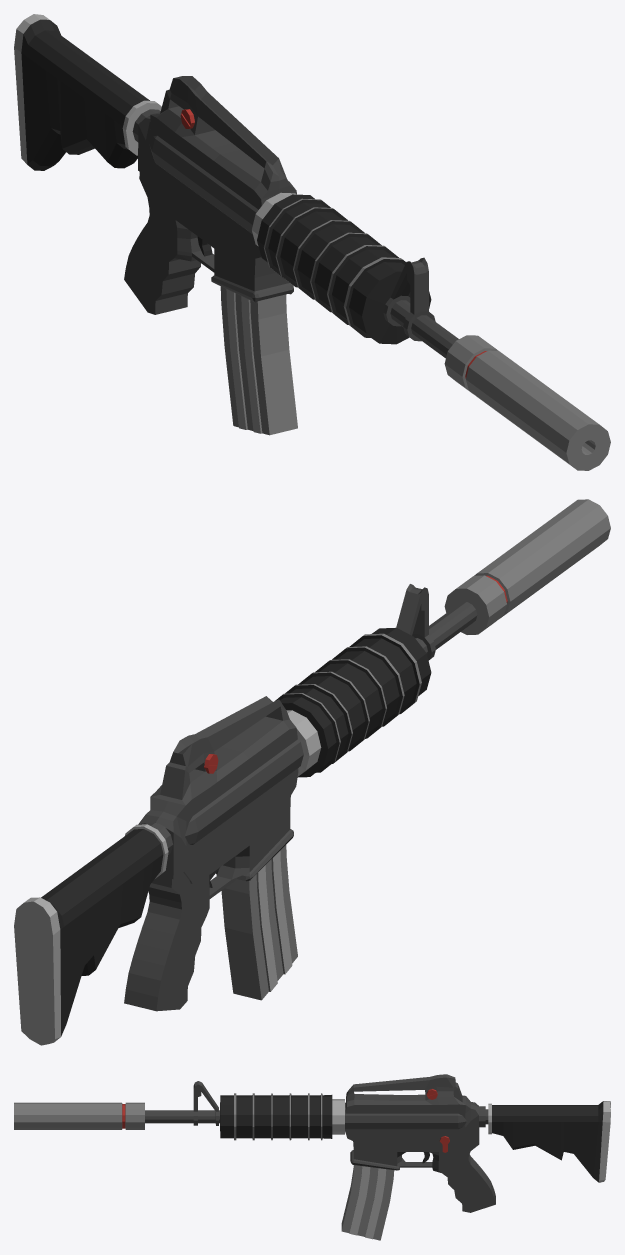
3 renders of one model, top to bottom at view 1: azimuth 30°, elevation 25°; view 2: azimuth 150°, elevation 25°; view 3: azimuth 270°, elevation 25°, orthographic. The views are drawn at different scales.
Visible parts, largest first — view 1: Gun_Cylinder, Silencer_Cylinder.001, Magazine_Cube.001; view 2: Gun_Cylinder, Silencer_Cylinder.001, Magazine_Cube.001; view 3: Gun_Cylinder, Silencer_Cylinder.001, Magazine_Cube.001.
Part boxes in pixels (box(x1,y1,x2,y2)): Gun_Cylinder: box(14, 14, 458, 358); Silencer_Cylinder.001: box(444, 335, 610, 470); Magazine_Cube.001: box(220, 286, 297, 435); Gun_Cylinder: box(14, 584, 477, 1045); Silencer_Cylinder.001: box(444, 499, 610, 634); Magazine_Cube.001: box(221, 845, 297, 1000); Gun_Cylinder: box(145, 1074, 610, 1212); Silencer_Cylinder.001: box(14, 1102, 144, 1129); Magazine_Cube.001: box(341, 1165, 394, 1240).
Bounding box in the file's own units: 0.9925 × 3.73 × 12.52.
3 materials, 3 textured.
